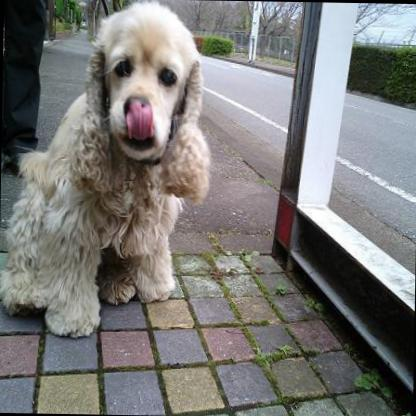cocker_spaniel: (0, 0, 213, 345)
